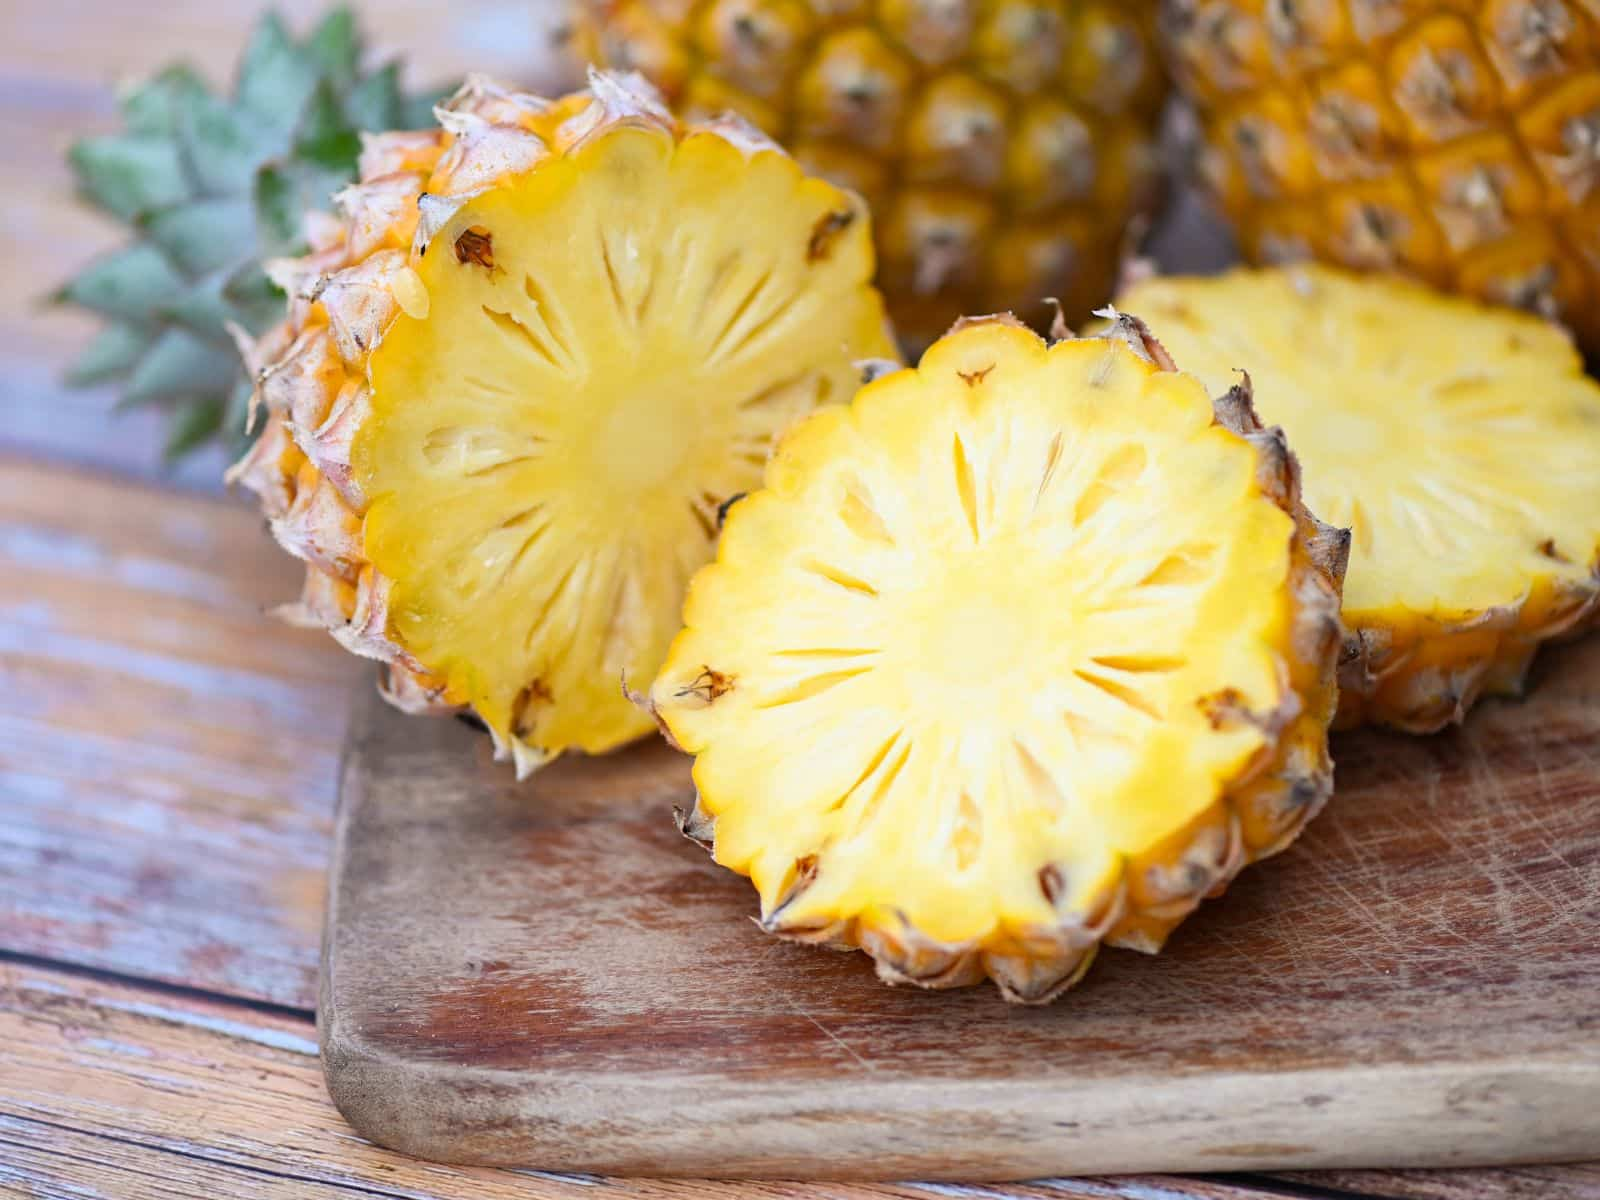pineapple: (711, 338, 1396, 981)
